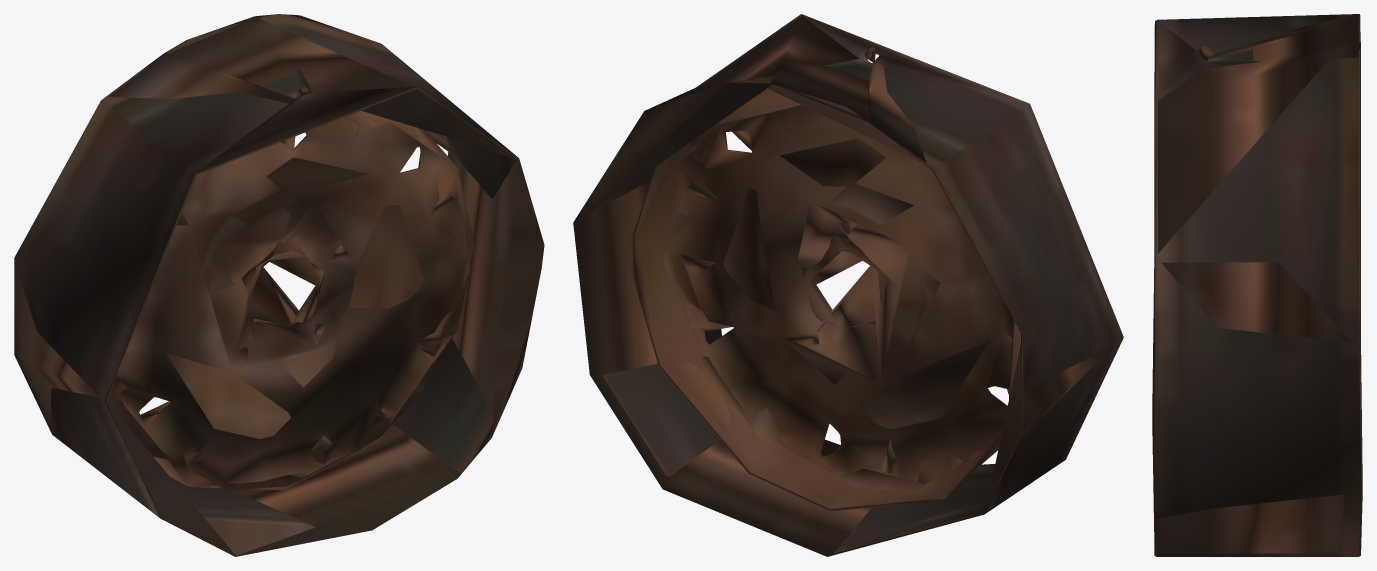
The model's file is wheelRim_lo.glb.
The picture shows the model from 3 angles, left to right: view 1: azimuth 30°, elevation 25°; view 2: azimuth 150°, elevation 25°; view 3: azimuth 270°, elevation 25°; orthographic projection. The views are drawn at different scales.
Visible parts, largest first — view 1: rusted_wheel_rim_01; view 2: rusted_wheel_rim_01; view 3: rusted_wheel_rim_01.
Boxes of the visible parts, x1,y1,x2,y2 form: rusted_wheel_rim_01: (14,14,544,556); rusted_wheel_rim_01: (573,14,1123,556); rusted_wheel_rim_01: (1152,14,1362,556).
Bounding box in the file's own units: 0.3983 × 0.3901 × 0.1529.
Materials: 1 (1 with a texture image).
